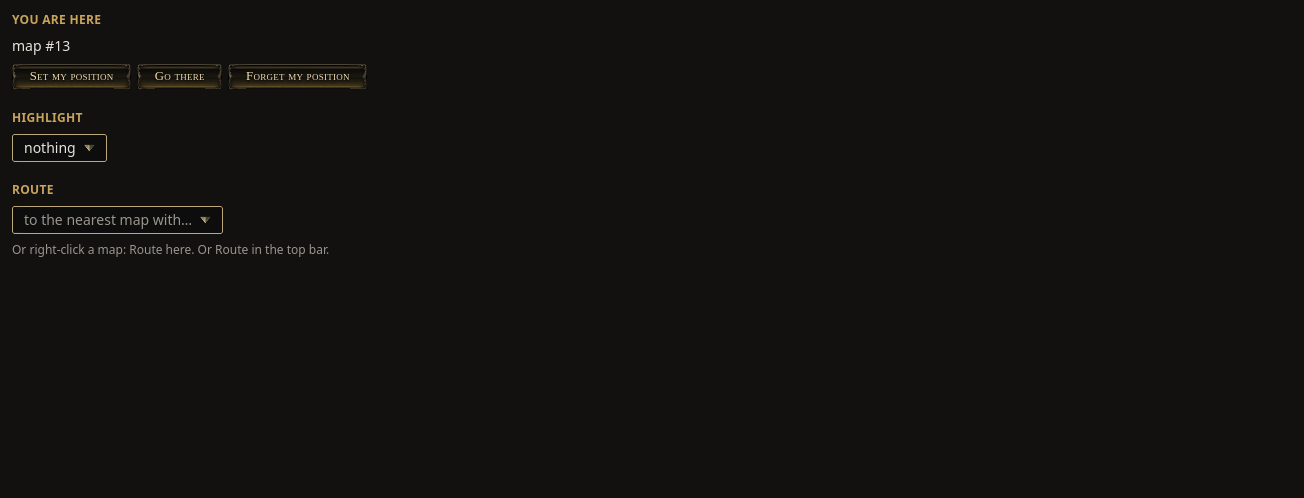
Test: RouteTab › the nearest map with an icon is tracked, as a route from Route in the top bar is (user)
This screenshot has width=1304, height=498.
expect the text "map #13" is shown: met, box [12, 36, 70, 55]
Click the dropdown named "Route to the nearest": point(118, 220) [12, 206, 223, 234]
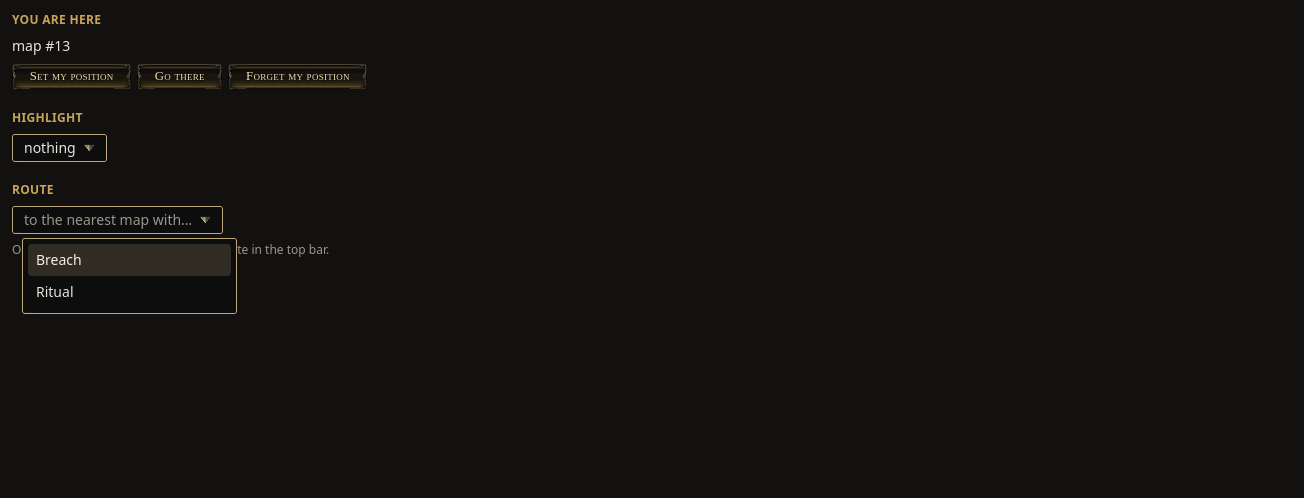
Click the option "Breach": point(130, 260) [28, 244, 231, 276]
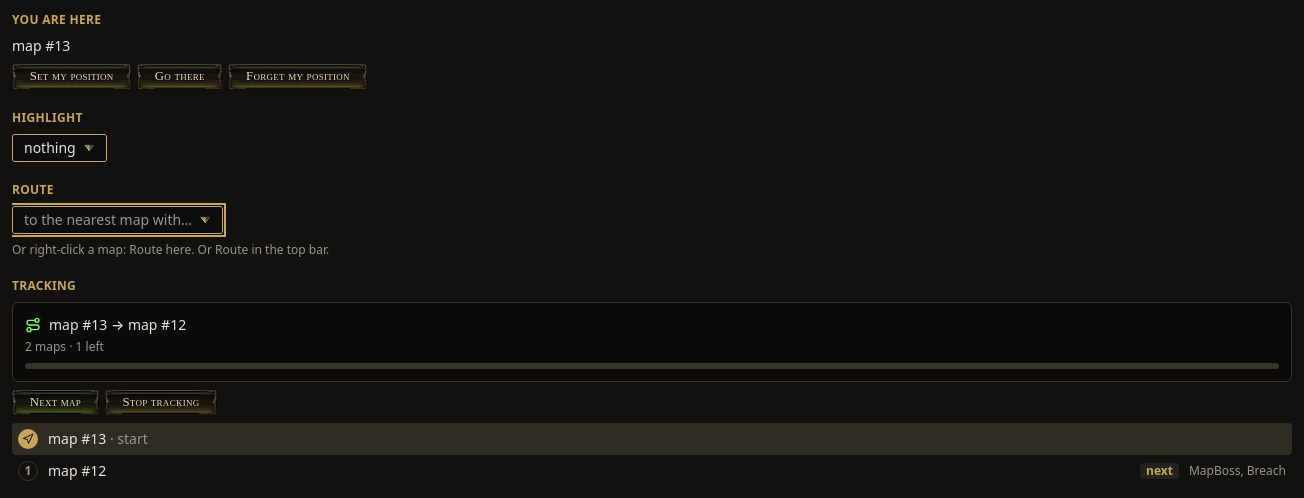
expect the button "Next map" is shown: met, box [12, 390, 99, 415]
